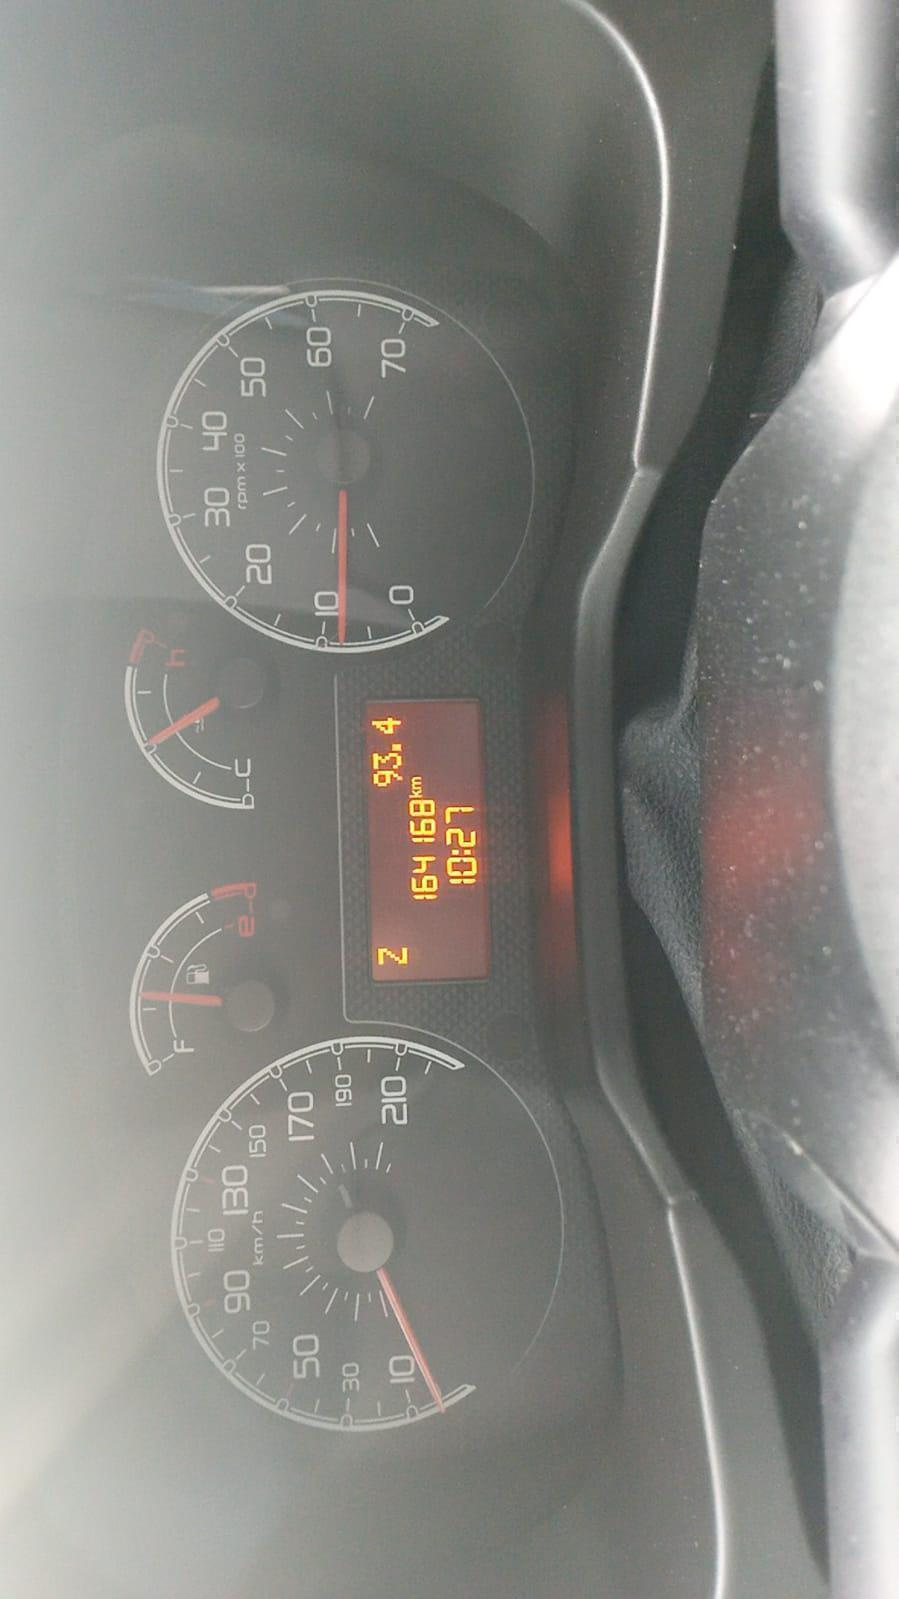,: (387, 743, 403, 752)
0: (443, 856, 480, 876)
1: (445, 877, 481, 886), (408, 835, 437, 845), (409, 894, 440, 901)
2: (442, 827, 477, 846)
3: (370, 750, 405, 769)
4: (371, 713, 405, 735), (408, 853, 438, 875)
6: (409, 875, 441, 893), (408, 817, 437, 835)
7: (443, 803, 477, 824)
8: (407, 798, 438, 817)
9: (371, 769, 404, 787)
X: (375, 944, 411, 965), (449, 848, 474, 856), (411, 776, 423, 789), (407, 789, 423, 797)
odometer: (368, 696, 483, 982)
